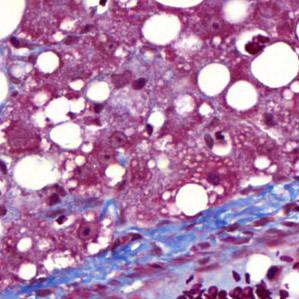steatosis: (251, 38, 296, 91), (195, 61, 230, 98)
